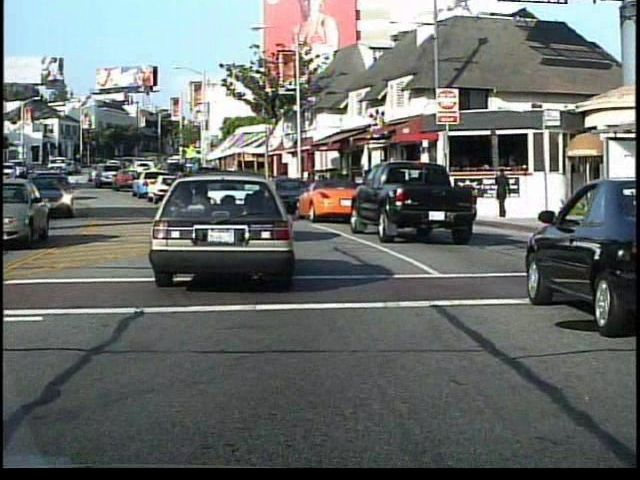person: (494, 168, 514, 222)
